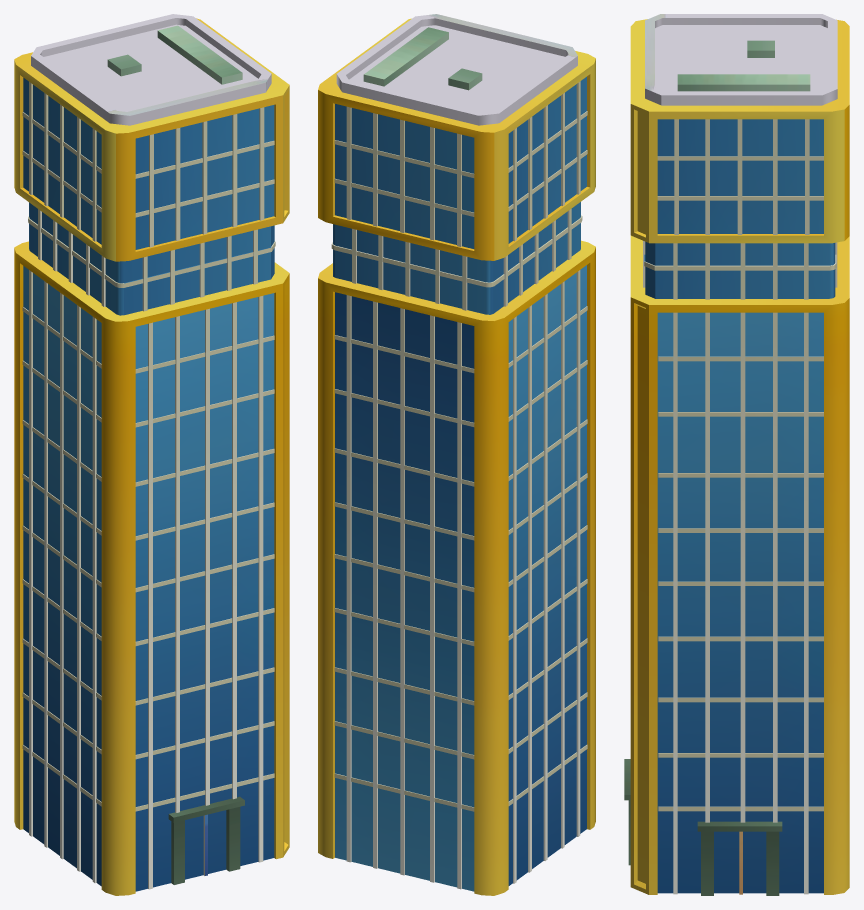
File: BUD03.fbx
3 views of the same model, side by side, from view 1: azimuth 30°, elevation 25°; view 2: azimuth 150°, elevation 25°; view 3: azimuth 270°, elevation 25° (orthographic). The views are drawn at different scales.
Visible parts, largest first — view 1: BUD03; view 2: BUD03; view 3: BUD03.
Part boxes in pixels (<box>): BUD03: <box>14,14,289,895</box>; BUD03: <box>318,14,595,895</box>; BUD03: <box>624,14,849,895</box>.
Bounding box in the file's own units: 1.45 × 5.65 × 1.45.
